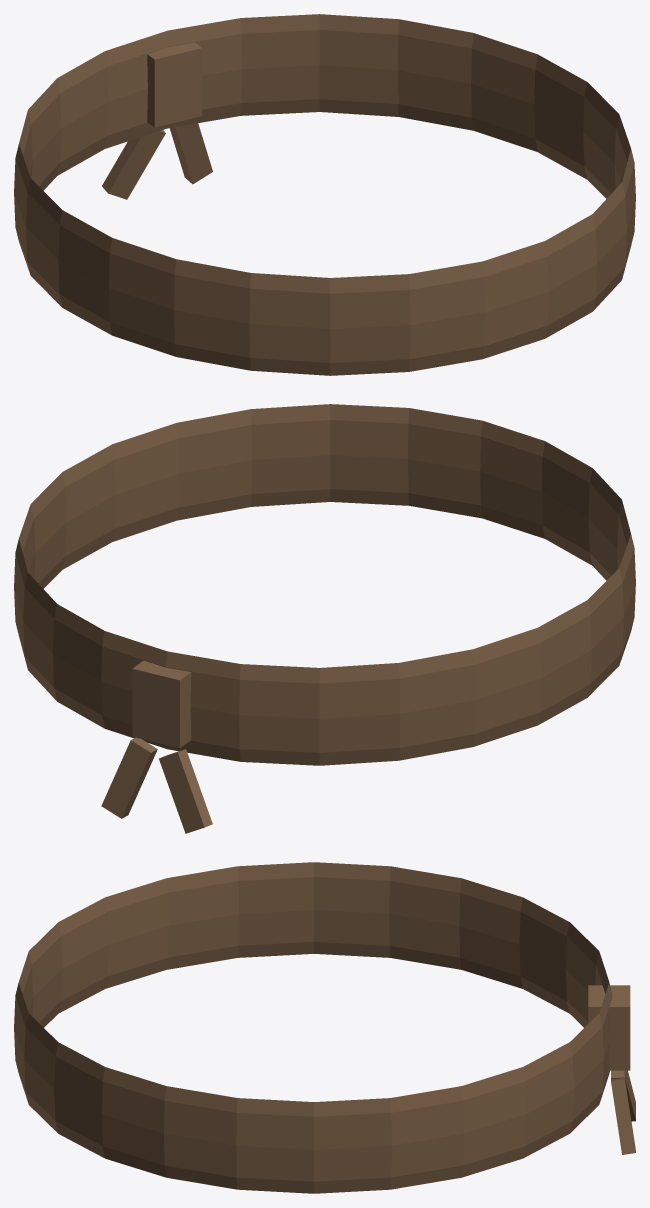
File: gear_headband_f.glb
The picture shows the model from 3 angles, top to bottom: view 1: azimuth 30°, elevation 25°; view 2: azimuth 150°, elevation 25°; view 3: azimuth 270°, elevation 25°; orthographic projection. The views are drawn at different scales.
Parts seen in each view (by area): view 1: Headband; view 2: Headband; view 3: Headband.
Part boxes in pixels (x1,y1,x2,y2): Headband: [14, 14, 635, 375]; Headband: [14, 404, 635, 833]; Headband: [14, 862, 635, 1193].
Bounding box in the file's own units: 0.2463 × 0.0736 × 0.2656.
